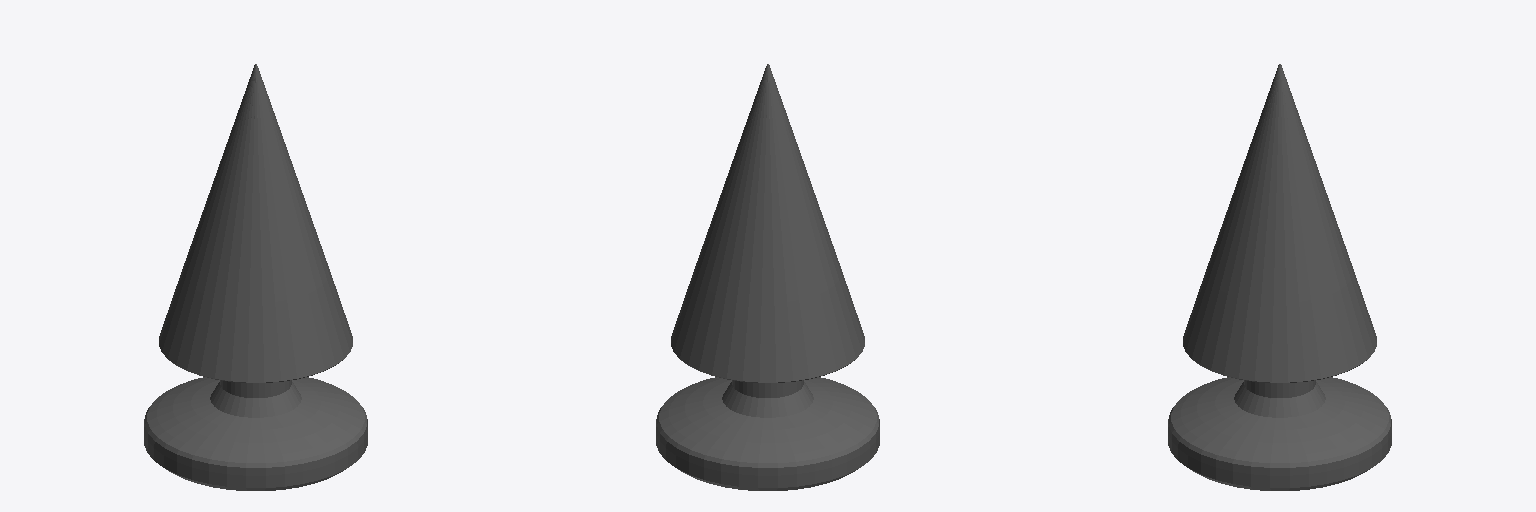
File: swedish.obj
The picture shows the model from 3 angles: view 1: azimuth 30°, elevation 25°; view 2: azimuth 150°, elevation 25°; view 3: azimuth 270°, elevation 25°; orthographic projection.
Parts seen in each view (by area): view 1: swedish; view 2: swedish; view 3: swedish.
Boxes of the visible parts, box(x1,y1,x2,y2) form: swedish: box(144, 64, 367, 490); swedish: box(656, 64, 879, 490); swedish: box(1168, 64, 1391, 490).
Size of the model in its own units: 18.47 by 34.99 by 18.47.